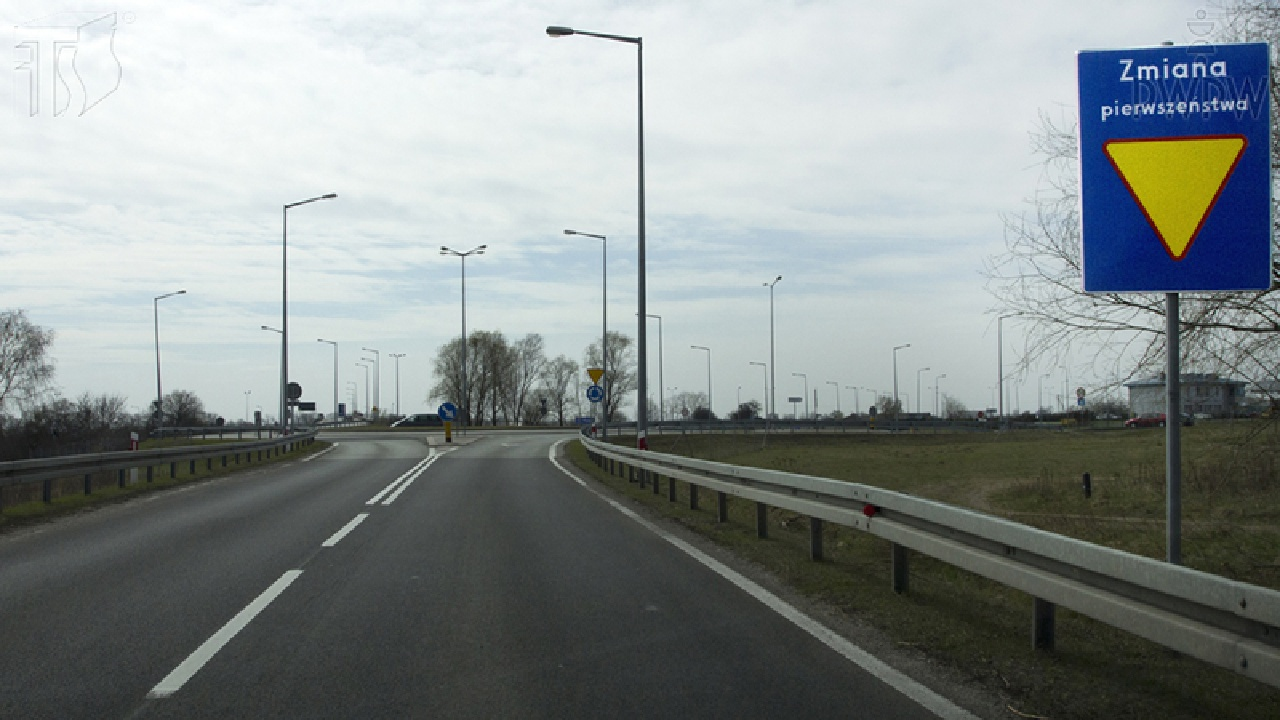A7: (1102, 135, 1246, 261)
